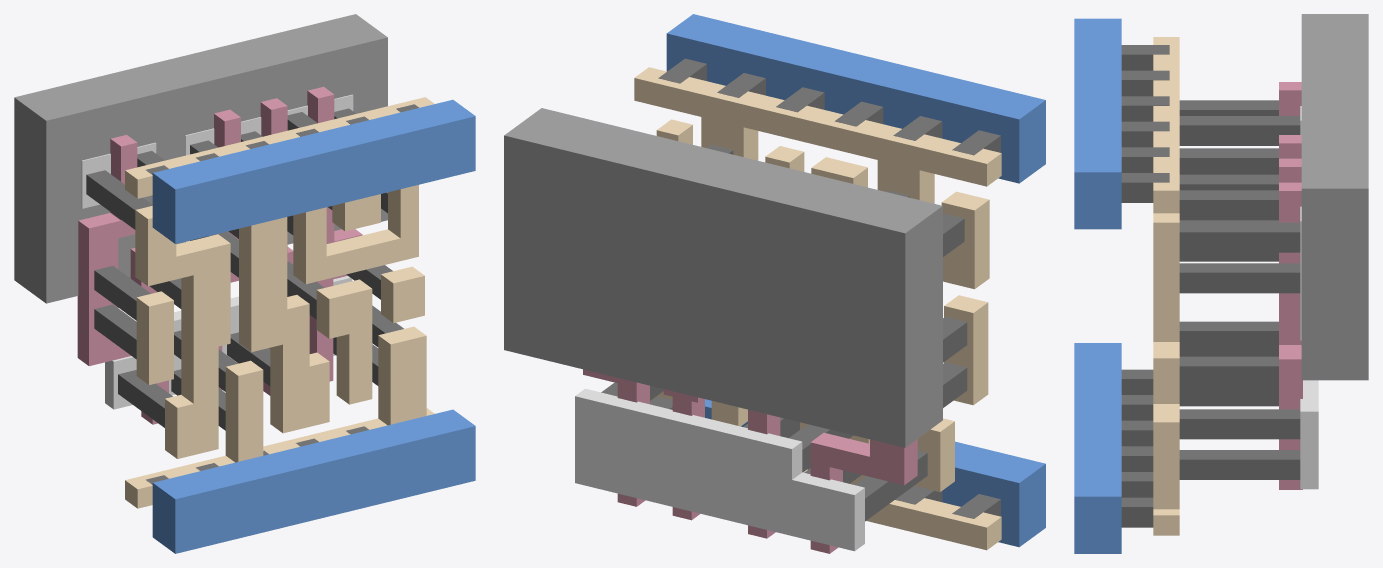
File: sky130_fd_sc_hd__a21boi_1.gds.gltf
3 renders of one model, left to right at view 1: azimuth 30°, elevation 25°; view 2: azimuth 150°, elevation 25°; view 3: azimuth 270°, elevation 25°, orthographic. The views are drawn at different scales.
Parts seen in each view (by area): view 1: sky130_fd_sc_hd__a21boi_1_li1, sky130_fd_sc_hd__a21boi_1_met1, sky130_fd_sc_hd__a21boi_1_nwell, sky130_fd_sc_hd__a21boi_1_licon, sky130_fd_sc_hd__a21boi_1_poly, sky130_fd_sc_hd__a21boi_1_diff, sky130_fd_sc_hd__a21boi_1_mcon; view 2: sky130_fd_sc_hd__a21boi_1_nwell, sky130_fd_sc_hd__a21boi_1_li1, sky130_fd_sc_hd__a21boi_1_met1, sky130_fd_sc_hd__a21boi_1_diff, sky130_fd_sc_hd__a21boi_1_poly, sky130_fd_sc_hd__a21boi_1_licon, sky130_fd_sc_hd__a21boi_1_mcon; view 3: sky130_fd_sc_hd__a21boi_1_licon, sky130_fd_sc_hd__a21boi_1_nwell, sky130_fd_sc_hd__a21boi_1_met1, sky130_fd_sc_hd__a21boi_1_li1, sky130_fd_sc_hd__a21boi_1_mcon, sky130_fd_sc_hd__a21boi_1_poly, sky130_fd_sc_hd__a21boi_1_diff.
Part boxes in pixels (x1=…): sky130_fd_sc_hd__a21boi_1_li1: x1=125, y1=97, x2=434, y2=508; sky130_fd_sc_hd__a21boi_1_met1: x1=152, y1=99, x2=475, y2=553; sky130_fd_sc_hd__a21boi_1_nwell: x1=14, y1=14, x2=387, y2=303; sky130_fd_sc_hd__a21boi_1_licon: x1=86, y1=108, x2=403, y2=430; sky130_fd_sc_hd__a21boi_1_poly: x1=77, y1=86, x2=362, y2=424; sky130_fd_sc_hd__a21boi_1_diff: x1=81, y1=94, x2=353, y2=409; sky130_fd_sc_hd__a21boi_1_mcon: x1=146, y1=104, x2=419, y2=484; sky130_fd_sc_hd__a21boi_1_nwell: x1=504, y1=108, x2=942, y2=447; sky130_fd_sc_hd__a21boi_1_li1: x1=634, y1=67, x2=1001, y2=550; sky130_fd_sc_hd__a21boi_1_met1: x1=666, y1=14, x2=1045, y2=547; sky130_fd_sc_hd__a21boi_1_diff: x1=575, y1=388, x2=864, y2=551; sky130_fd_sc_hd__a21boi_1_poly: x1=583, y1=369, x2=917, y2=553; sky130_fd_sc_hd__a21boi_1_licon: x1=601, y1=145, x2=967, y2=521; sky130_fd_sc_hd__a21boi_1_mcon: x1=658, y1=58, x2=1000, y2=518; sky130_fd_sc_hd__a21boi_1_licon: x1=1179, y1=100, x2=1300, y2=479; sky130_fd_sc_hd__a21boi_1_nwell: x1=1301, y1=14, x2=1368, y2=380; sky130_fd_sc_hd__a21boi_1_met1: x1=1074, y1=18, x2=1121, y2=553; sky130_fd_sc_hd__a21boi_1_li1: x1=1153, y1=37, x2=1179, y2=535; sky130_fd_sc_hd__a21boi_1_mcon: x1=1121, y1=45, x2=1169, y2=527; sky130_fd_sc_hd__a21boi_1_poly: x1=1279, y1=82, x2=1302, y2=489; sky130_fd_sc_hd__a21boi_1_diff: x1=1300, y1=106, x2=1318, y2=489.
Size of the model in its own units: 3.14 by 3.2 by 2.24.
